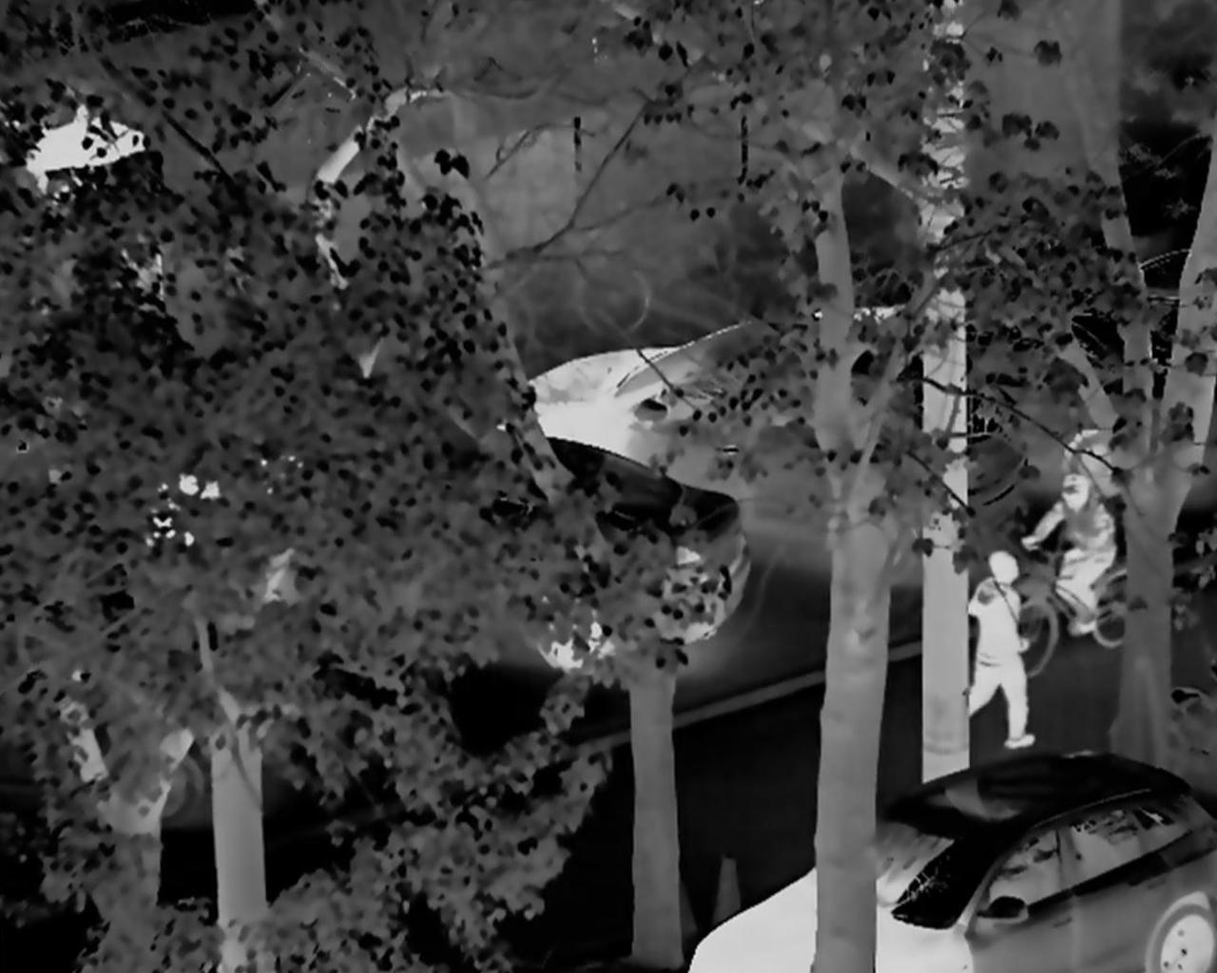person: (1023, 461, 1120, 639), (965, 556, 1042, 751)
